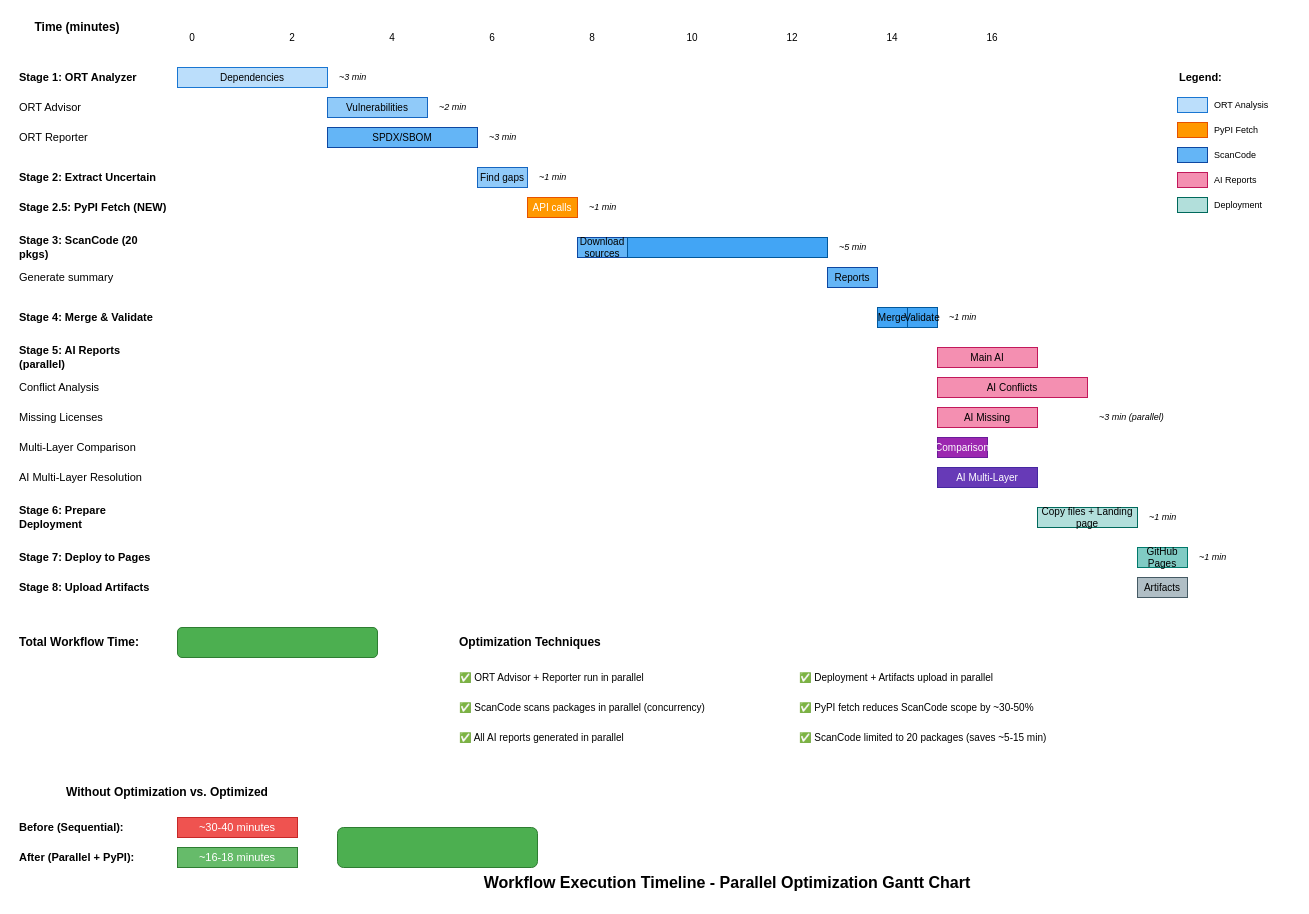
This 1309x914 diagram has some shape labels left out. Here are the shapes that lost their labels. From the top down, the box of each, then its label:
(626, 236, 828, 258): Scan files (parallel)
(176, 626, 378, 658): ~16-18 minutes (typical)
(336, 826, 538, 868): ⚡ 50-60% time savings
